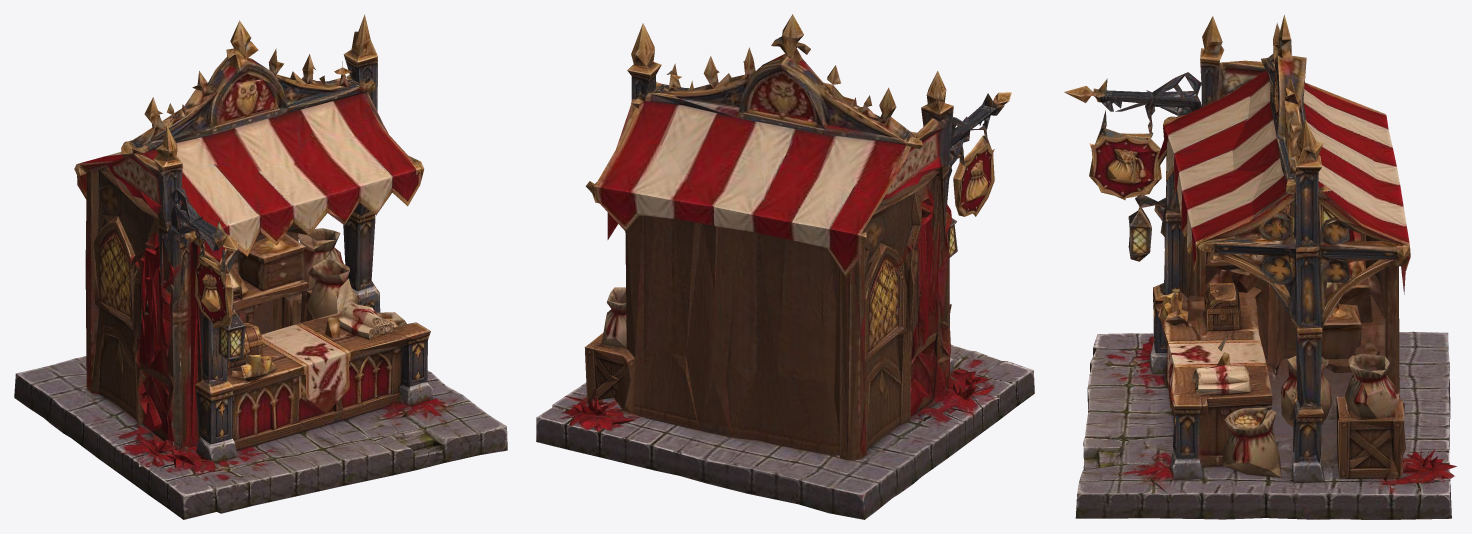
The model's file is shop.glb.
3 renders of one model, left to right at view 1: azimuth 30°, elevation 25°; view 2: azimuth 150°, elevation 25°; view 3: azimuth 270°, elevation 25°, orthographic. The views are drawn at different scales.
Bounding box in the file's own units: 1.6 × 1.9 × 1.61.
1 material, 1 textured.
